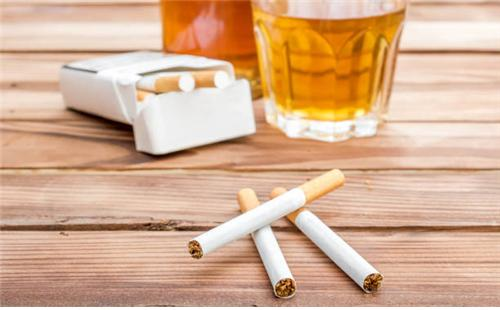alcohol: (251, 0, 410, 142), (160, 0, 286, 103)
cigarette: (184, 169, 384, 300), (60, 54, 256, 150)
